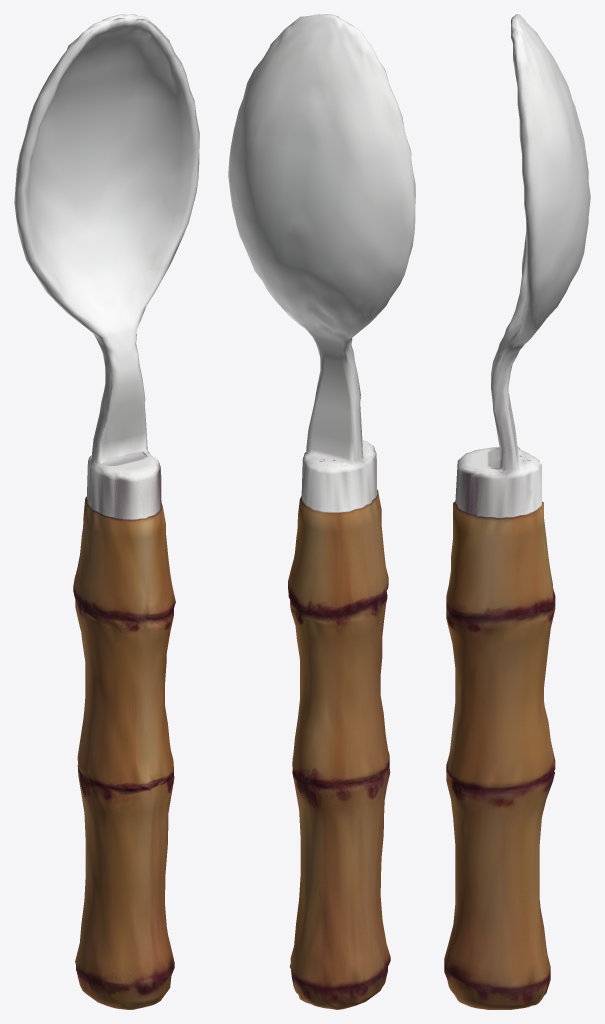
File: Bamboo_Table_Spoon_0225003601_texture.glb
The picture shows the model from 3 angles, left to right: view 1: azimuth 30°, elevation 25°; view 2: azimuth 150°, elevation 25°; view 3: azimuth 270°, elevation 25°; orthographic projection.
Parts seen in each view (by area): view 1: Mesh_0; view 2: Mesh_0; view 3: Mesh_0.
Part boxes in pixels (x1,y1,x2,y2): Mesh_0: (14,14,199,1009); Mesh_0: (228,14,415,1009); Mesh_0: (444,14,590,1009).
Bounding box in the file's own units: 0.0396 × 0.2032 × 0.0275.
1 material, 1 textured.
